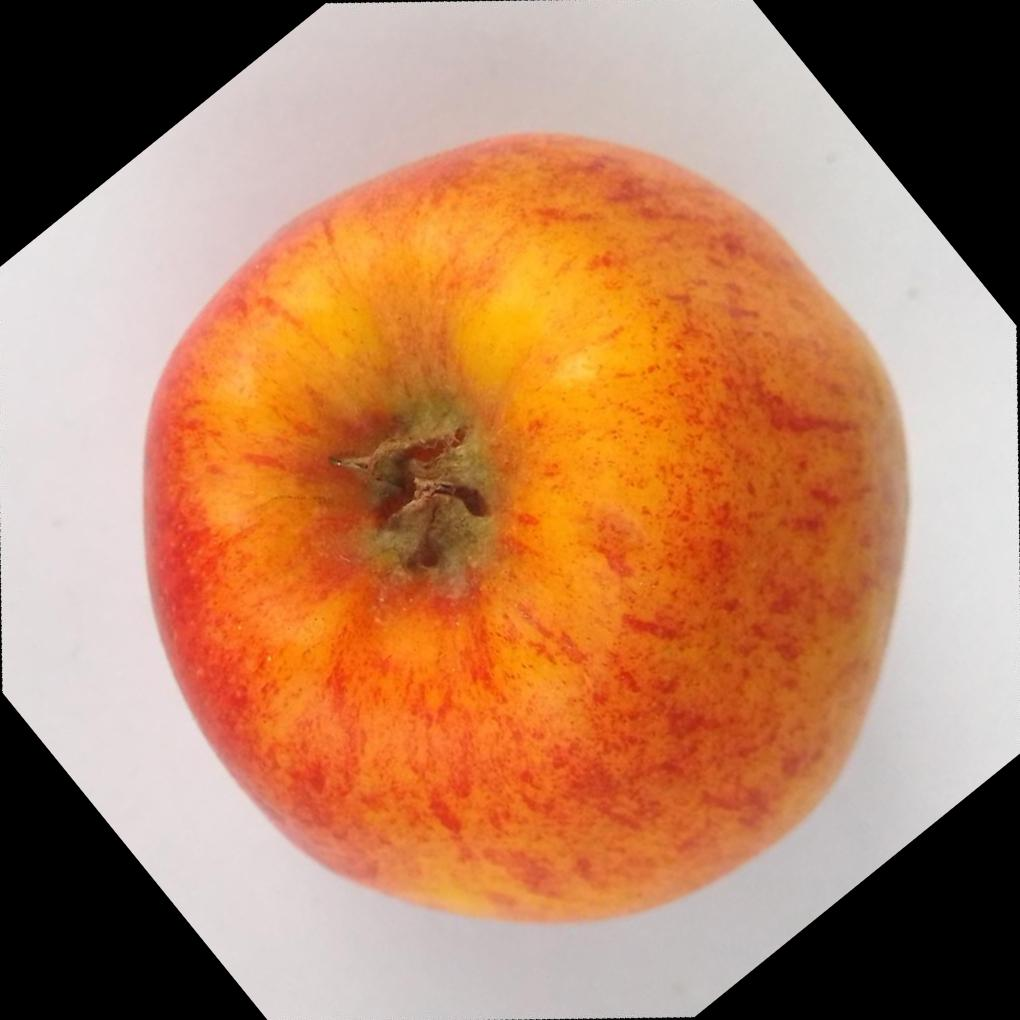FreshGuava: (139, 131, 910, 928)
